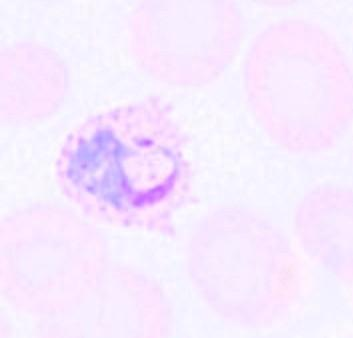Infected: (58, 94, 200, 238)
Uninfected: (244, 18, 353, 155), (188, 203, 297, 328), (0, 205, 105, 313), (35, 261, 164, 338), (131, 0, 240, 90), (0, 43, 66, 120)
